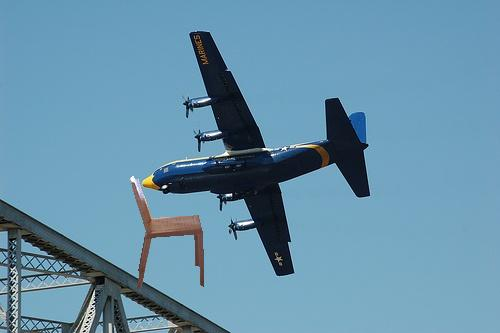tampered: (131, 177, 204, 289)
